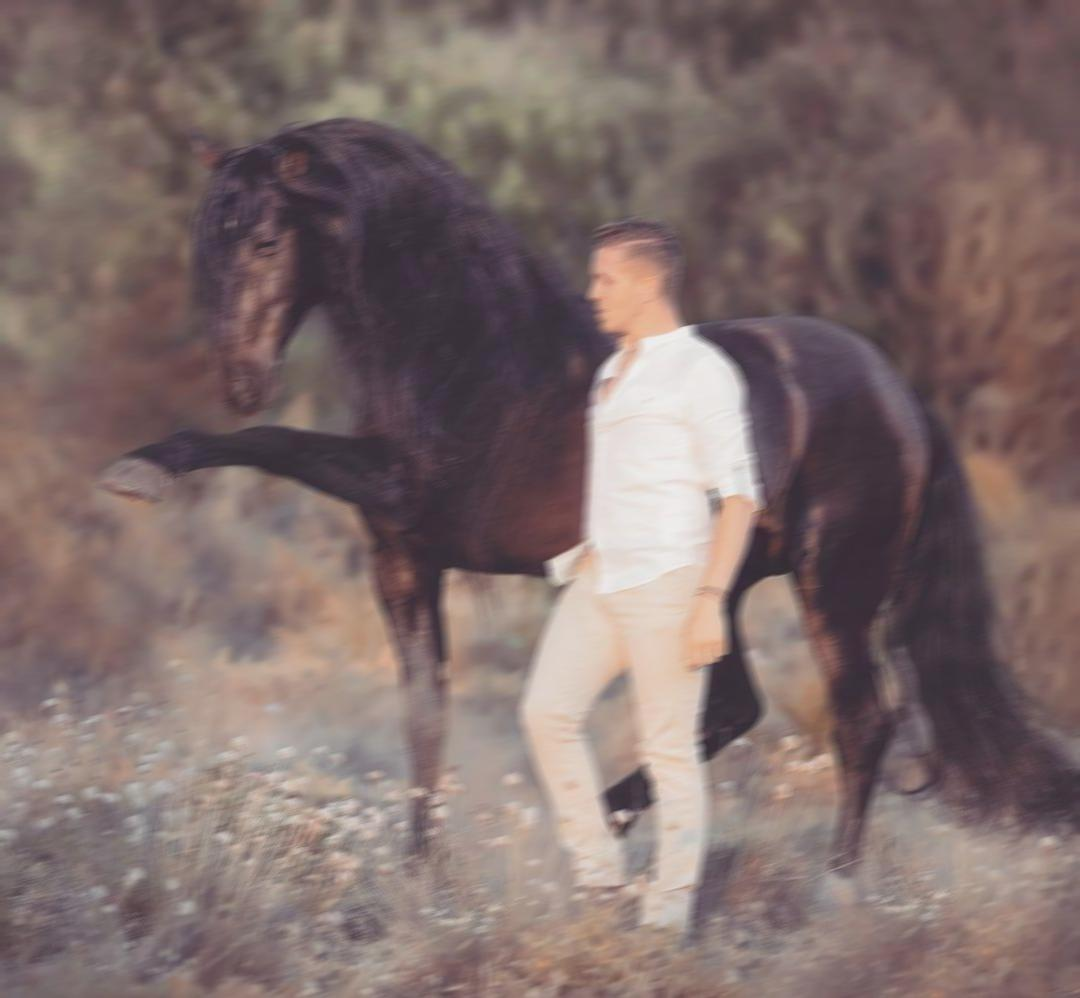horse: (179, 115, 1080, 911)
